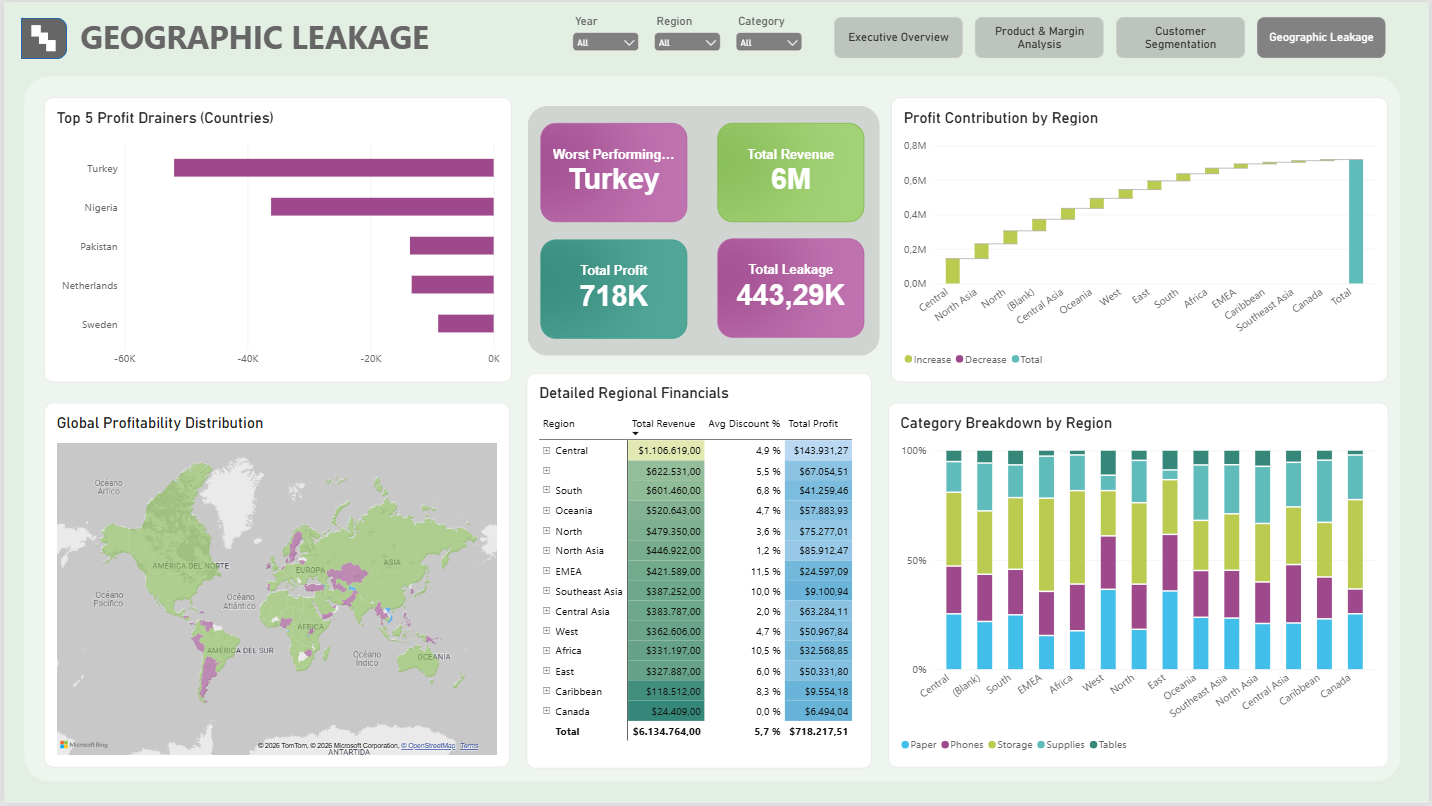

Layout of this report page (visuals, bound fields, positions):
{"tool":"powerbi","page":{"name":"Geographic Leakage","canvas":[1920,1080],"ordinal":3},"visuals":[{"type":"shape","box":[705.1,139.8,474.5,336.7],"z":0},{"type":"shape","box":[27,99.9,1855.1,950.5],"z":1000},{"type":"filledMap","title":"Global Profitability Distribution","fields":{"Category":["dim_location.country"]},"box":[54.8,540.3,627.4,491.9],"z":2000},{"type":"waterfallChart","title":"Profit Contribution by Region","fields":{"Category":["dim_location.region","dim_location.country"],"Y":["fact_sales.Total Profit"]},"box":[1196.4,129.1,669.1,383.6],"z":3000},{"type":"pivotTable","title":"Detailed Regional Financials","fields":{"Rows":["dim_location.region","dim_location.state","dim_location.city"],"Values":["fact_sales.Total Revenue","dim_customer.Avg Discount %","fact_sales.Total Profit"]},"box":[704.3,500,465.5,532.7],"z":4000},{"type":"clusteredBarChart","title":"Top 5 Profit Drainers (Countries)","fields":{"Category":["dim_location.country"],"Y":["fact_sales.Total Profit"]},"box":[54.8,129,630.6,383.9],"z":5000},{"type":"hundredPercentStackedColumnChart","title":"Category Breakdown by Region","fields":{"Category":["dim_location.region"],"Y":["Count(fact_sales.order_id)"],"Series":["dim_product.sub_category"]},"box":[1191.9,540.3,674.2,491.9],"z":6000},{"type":"shape","box":[23,21.6,62.1,55.4],"z":7000},{"type":"textbox","box":[102.6,17.6,614.3,74.3],"z":8000},{"type":"slicer","fields":{"Values":["dim_date.date_key.Variation.Date Hierarchy.Year"]},"box":[761.5,17.6,98.9,71.9],"z":9000},{"type":"slicer","fields":{"Values":["dim_location.region"]},"box":[870.9,17.6,98.9,71.9],"z":10000},{"type":"slicer","fields":{"Values":["dim_product.category"]},"box":[981.6,17.6,98.9,71.9],"z":11000},{"type":"pageNavigator","box":[1117.9,20.3,748,56.7],"z":12000},{"type":"shape","box":[37.8,31.1,12.2,14.9],"z":13000},{"type":"shape","box":[47.8,41.1,12.2,14.9],"z":14000},{"type":"shape","box":[57.8,51.1,12.2,14.9],"z":15000},{"type":"cardVisual","fields":{"Data":["dim_customer.Worst Performing Country"]},"box":[722.7,162.5,198,134],"z":16000},{"type":"cardVisual","fields":{"Data":["fact_sales.Total Revenue"]},"box":[960.9,162.5,198,134],"z":17000},{"type":"cardVisual","fields":{"Data":["fact_sales.Total Leakage"]},"box":[960.9,318.9,198,134],"z":18000},{"type":"cardVisual","fields":{"Data":["fact_sales.Total Profit"]},"box":[722.7,320.7,198,134],"z":19000}]}

Visuals, with their boxes in screenshot pixels (x1, y1, x2, y2), scaled from the page's 1920x1080 canvas onto the 1432x806 screenshot:
shape: <box>526,104,880,356</box>
shape: <box>20,75,1404,784</box>
"Global Profitability Distribution" filledMap: <box>41,403,509,770</box>
"Profit Contribution by Region" waterfallChart: <box>892,96,1391,383</box>
"Detailed Regional Financials" pivotTable: <box>525,373,872,771</box>
"Top 5 Profit Drainers (Countries)" clusteredBarChart: <box>41,96,511,383</box>
"Category Breakdown by Region" hundredPercentStackedColumnChart: <box>889,403,1392,770</box>
shape: <box>17,16,63,57</box>
textbox: <box>77,13,535,69</box>
slicer - dim_date.date_key.Variation.Date Hierarchy.Year: <box>568,13,642,67</box>
slicer - dim_location.region: <box>650,13,723,67</box>
slicer - dim_product.category: <box>732,13,806,67</box>
pageNavigator: <box>834,15,1392,57</box>
shape: <box>28,23,37,34</box>
shape: <box>36,31,45,42</box>
shape: <box>43,38,52,49</box>
cardVisual - dim_customer.Worst Performing Country: <box>539,121,687,221</box>
cardVisual - fact_sales.Total Revenue: <box>717,121,864,221</box>
cardVisual - fact_sales.Total Leakage: <box>717,238,864,338</box>
cardVisual - fact_sales.Total Profit: <box>539,239,687,339</box>
